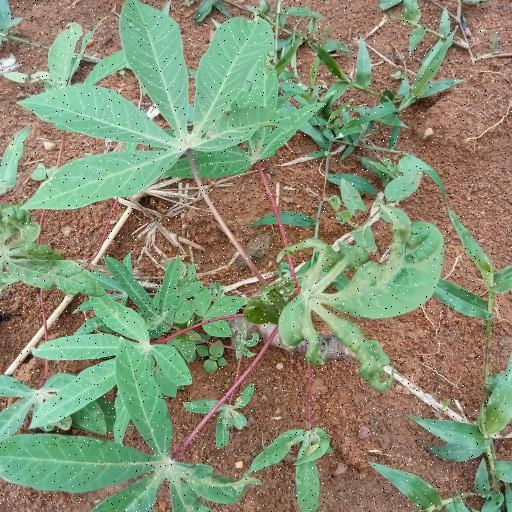Cassava_Mosaic: (15, 3, 286, 217), (8, 348, 242, 506), (283, 228, 444, 392), (29, 300, 189, 416)
